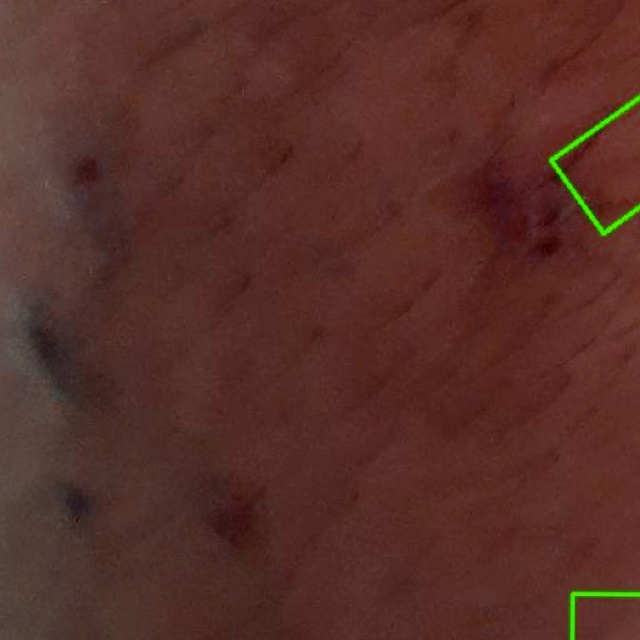Contact Dermatitis: (551, 98, 639, 234)
